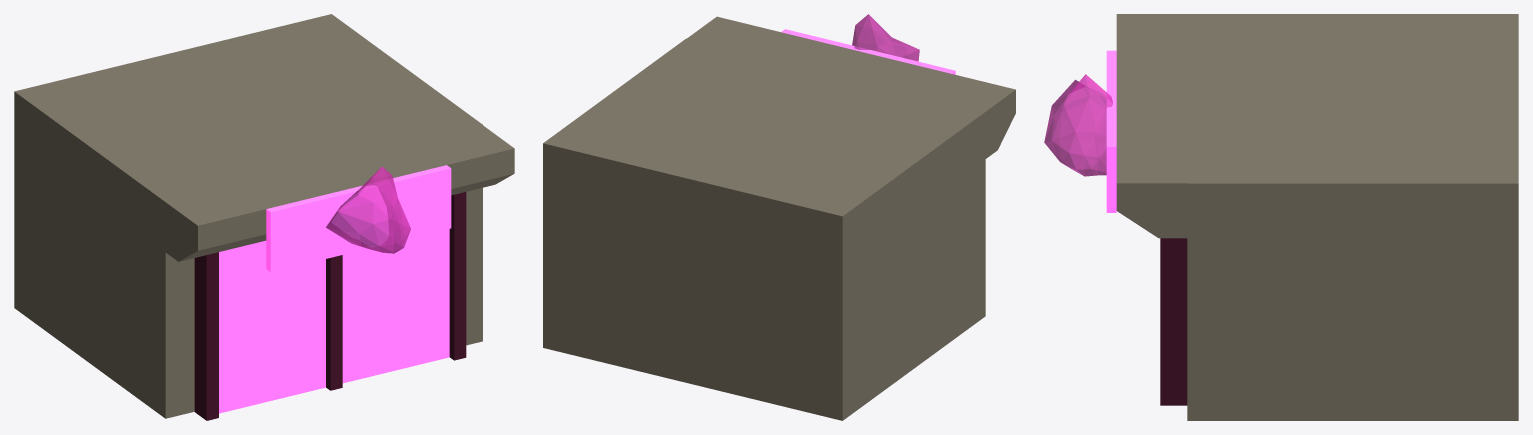
The picture shows the model from 3 angles, left to right: view 1: azimuth 30°, elevation 25°; view 2: azimuth 150°, elevation 25°; view 3: azimuth 270°, elevation 25°; orthographic projection. The views are drawn at different scales.
Visible parts, largest first — view 1: Cube.028, Cube.002, Cube.001, Cube.006, Icosphere, Cube.003, Cube.004, Cube.005; view 2: Cube.028, Cube.001, Icosphere, Cube.006; view 3: Cube.028, Cube.001, Icosphere, Cube.004, Cube.006.
Part boxes in pixels (x1=…): Cube.028: x1=14, y1=14, x2=482, y2=418; Cube.002: x1=219, y1=229, x2=449, y2=413; Cube.001: x1=165, y1=125, x2=514, y2=261; Cube.006: x1=266, y1=165, x2=451, y2=272; Icosphere: x1=326, y1=166, x2=410, y2=253; Cube.003: x1=194, y1=252, x2=218, y2=420; Cube.004: x1=449, y1=192, x2=466, y2=360; Cube.005: x1=326, y1=255, x2=342, y2=390; Cube.028: x1=543, y1=39, x2=985, y2=420; Cube.001: x1=686, y1=16, x2=1015, y2=158; Icosphere: x1=852, y1=14, x2=919, y2=61; Cube.006: x1=781, y1=29, x2=955, y2=74; Cube.028: x1=1187, y1=14, x2=1518, y2=420; Cube.001: x1=1116, y1=14, x2=1187, y2=238; Icosphere: x1=1044, y1=74, x2=1112, y2=176; Cube.004: x1=1160, y1=238, x2=1187, y2=405; Cube.006: x1=1106, y1=50, x2=1116, y2=212.
Bounding box in the file's own units: 12.41 × 9.17 × 14.67.
